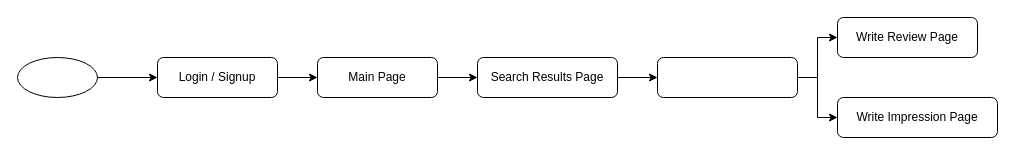
This 1015x155 diagram has some shape labels left out. Each missing label, with the centre of its shape:
Book Detail Page: the point at 727,77
Start: the point at 57,77
